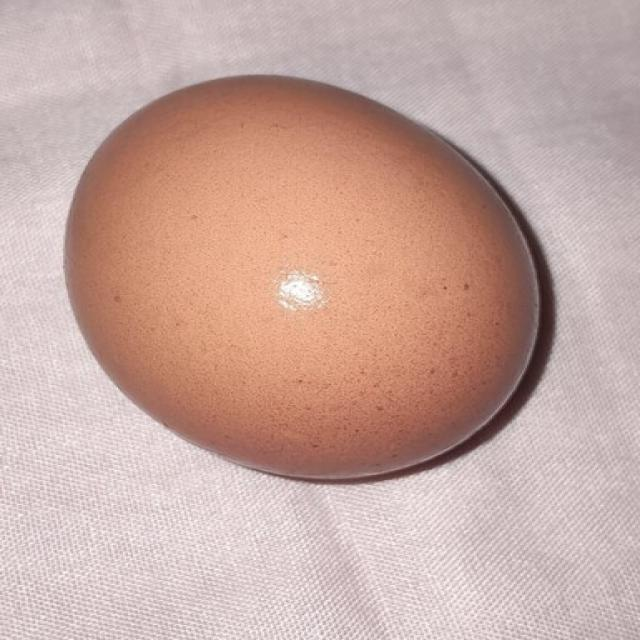unfresh: (53, 51, 546, 488)
